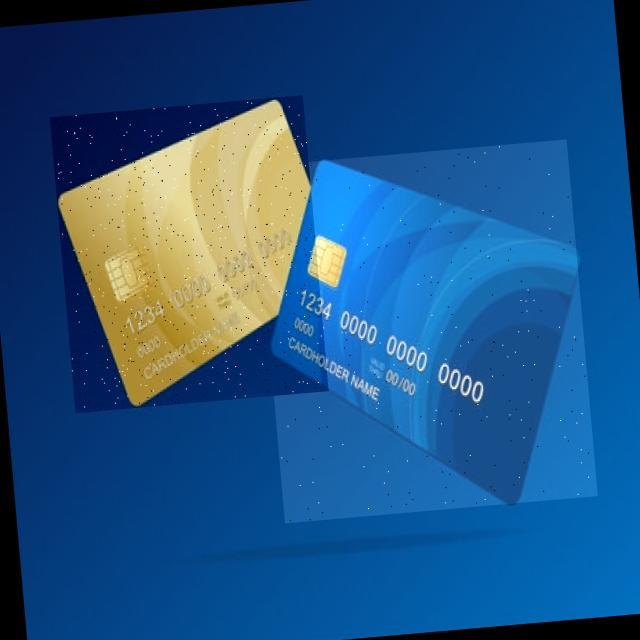payment_card: (269, 138, 594, 510), (48, 94, 315, 412)
